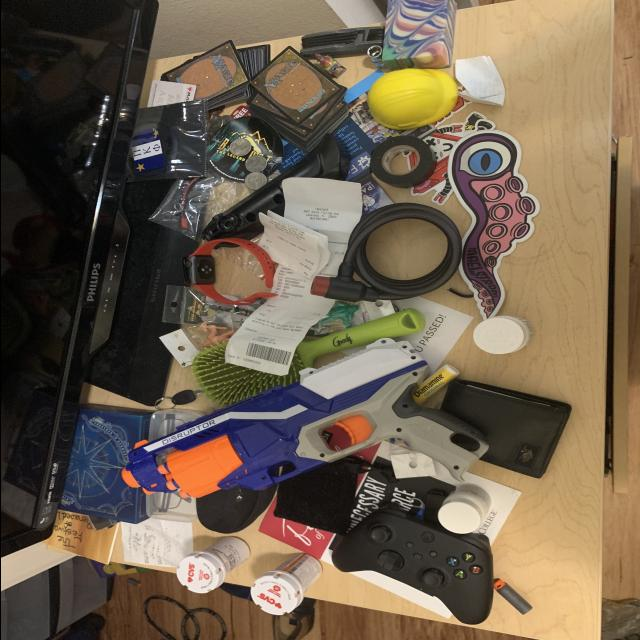nerf-maverik: (114, 324, 494, 505)
